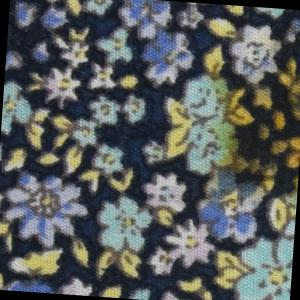Oil Stain: (213, 53, 300, 203)
